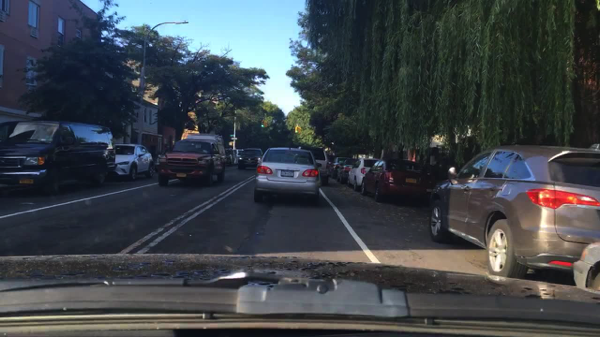car: (429, 145, 599, 282), (0, 119, 116, 196), (252, 147, 319, 205), (156, 139, 227, 188), (360, 159, 429, 201), (112, 143, 155, 180), (570, 242, 599, 293), (298, 144, 331, 186), (346, 155, 379, 191), (237, 149, 263, 170), (336, 159, 358, 182), (333, 156, 348, 180), (221, 148, 238, 165), (327, 161, 335, 178), (481, 290, 486, 292)
traffic light: (263, 118, 267, 128), (228, 142, 234, 148), (295, 126, 299, 132), (262, 119, 264, 127)
traffic sign: (231, 136, 238, 141)
truck: (186, 132, 227, 170)
